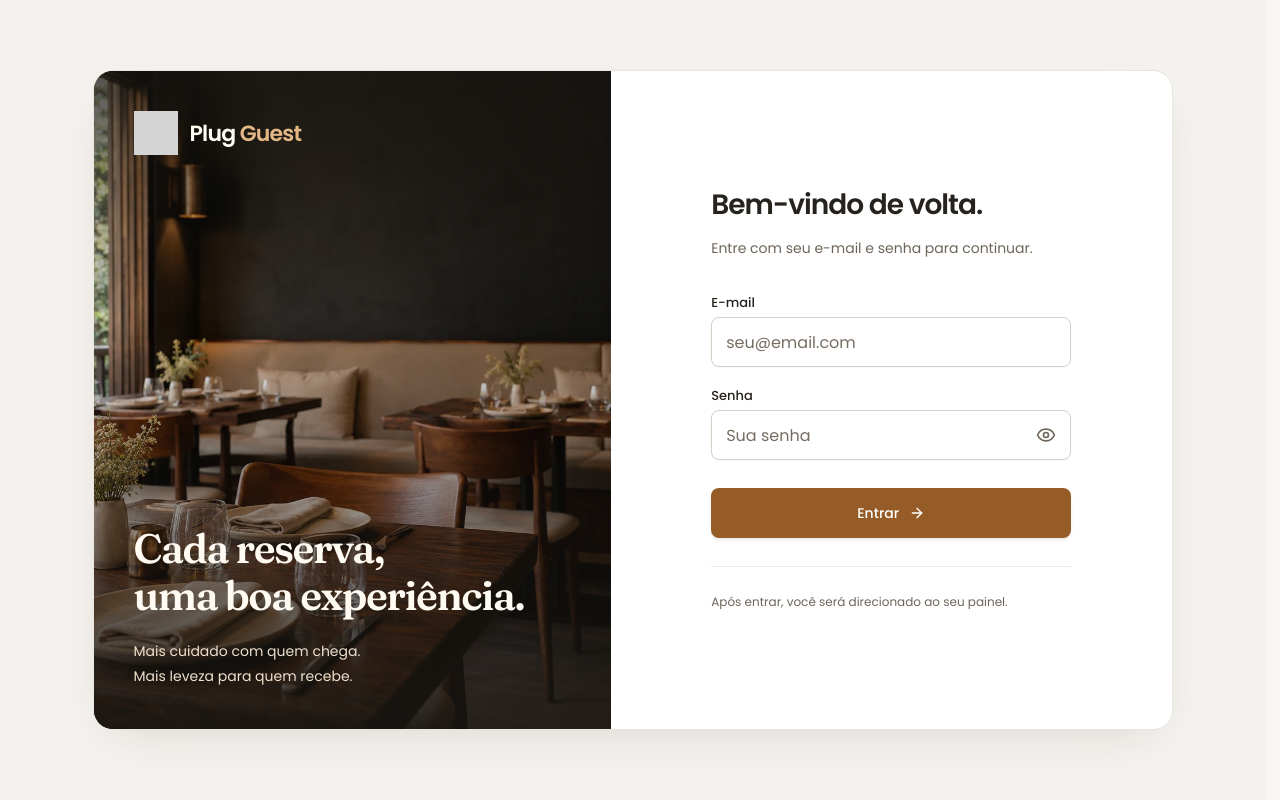
Test: Login › does not send an invalid email to authentication
In the field labelled "E-mail": (891,342) [711, 317, 1071, 367], type "email-invalido"
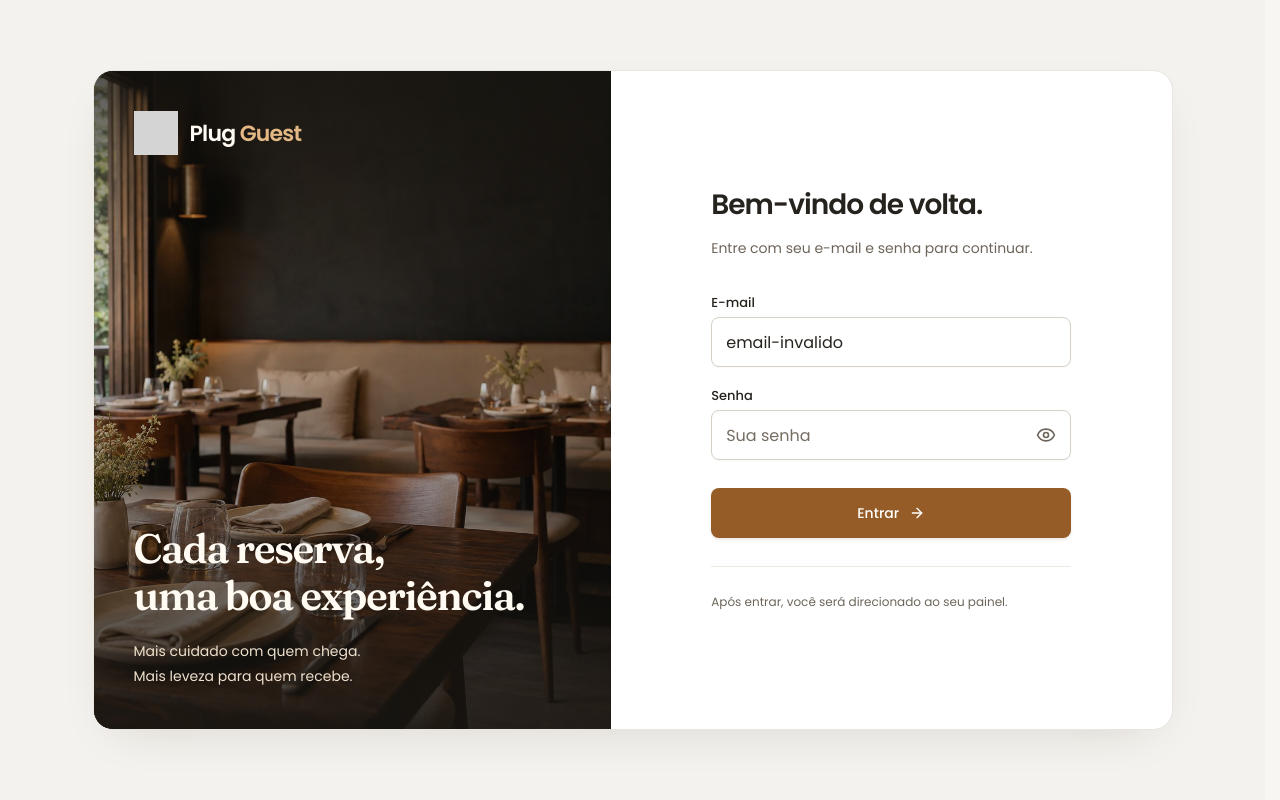
In the password field labelled "Senha": (891,435) [711, 410, 1071, 460], type "password"
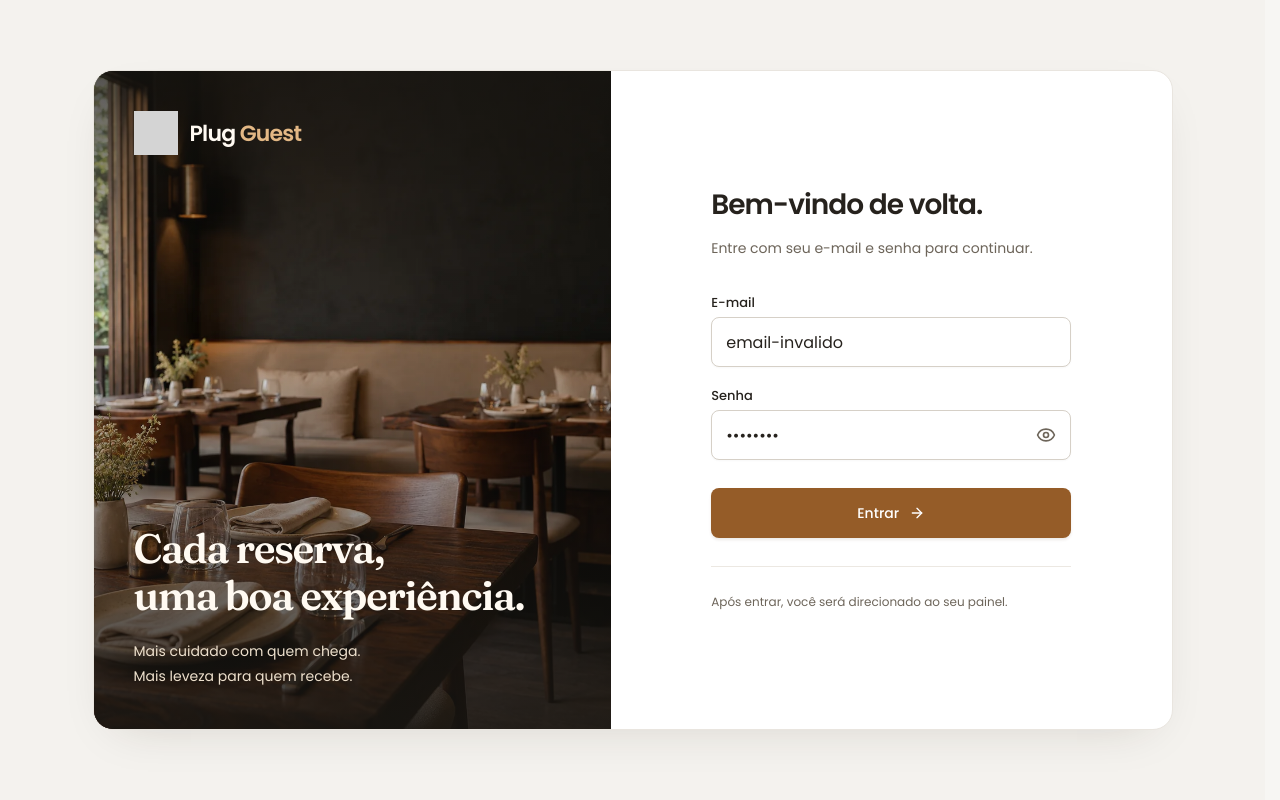
Submit the form, box [711, 296, 1071, 538]
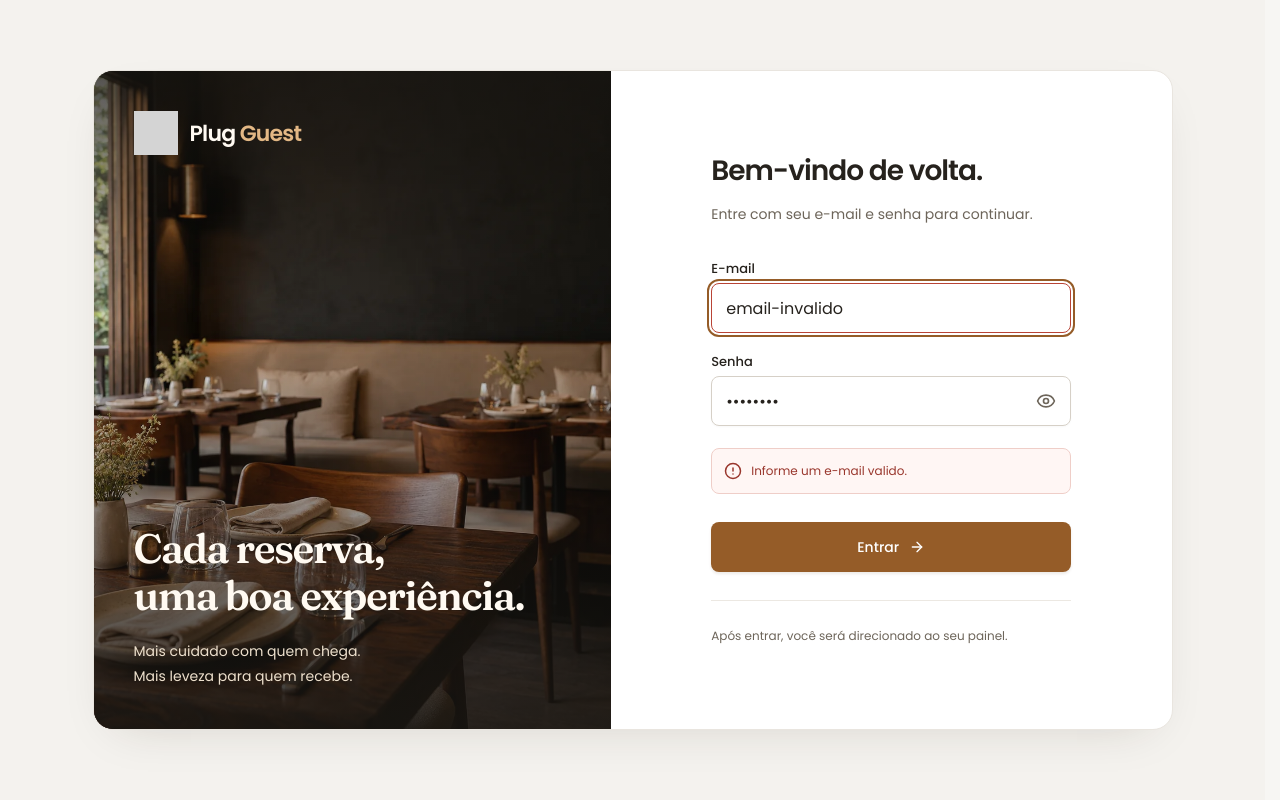
Now the message reads "Informe um e-mail valido.", box [751, 462, 907, 479]
